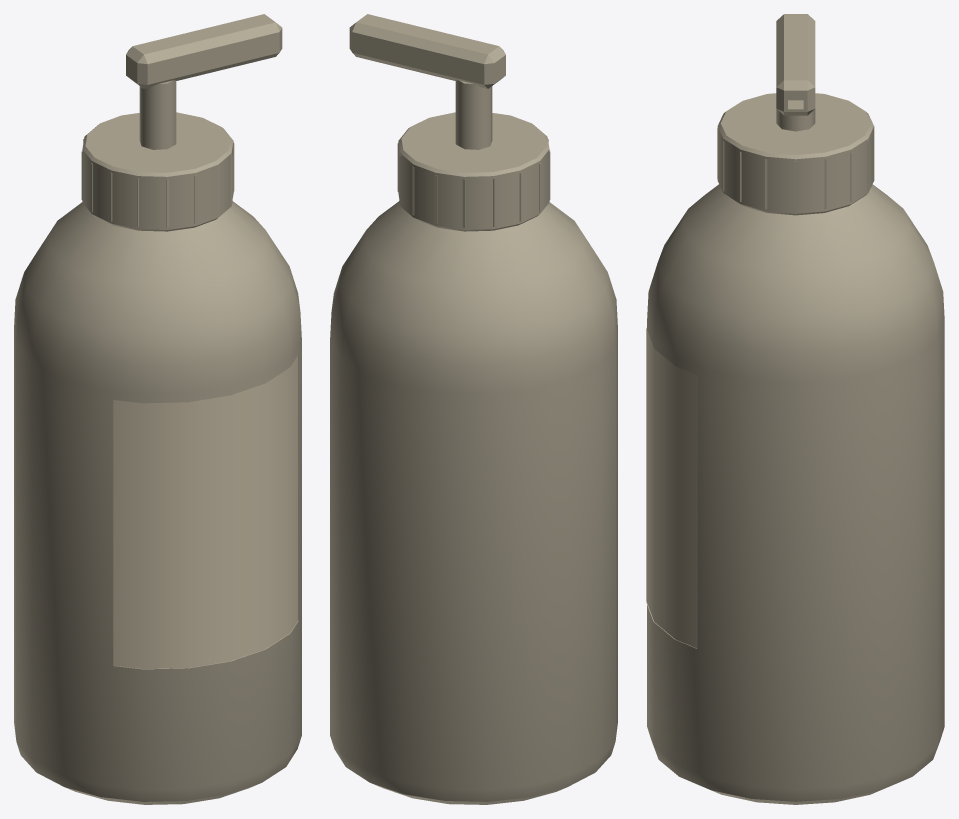
Rendered from pump-bottle-98333eae1b1b.glb.
The picture shows the model from 3 angles, left to right: view 1: azimuth 30°, elevation 25°; view 2: azimuth 150°, elevation 25°; view 3: azimuth 270°, elevation 25°; orthographic projection. The views are drawn at different scales.
Parts seen in each view (by area): view 1: plastic-light, paper; view 2: plastic-light; view 3: plastic-light, paper.
Boxes of the visible parts, x1,y1,x2,y2 form: plastic-light: [14, 14, 301, 804]; paper: [113, 355, 298, 669]; plastic-light: [330, 14, 617, 804]; plastic-light: [647, 14, 944, 804]; paper: [646, 328, 697, 648].
Bounding box in the file's own units: 0.076 × 0.205 × 0.0762.
